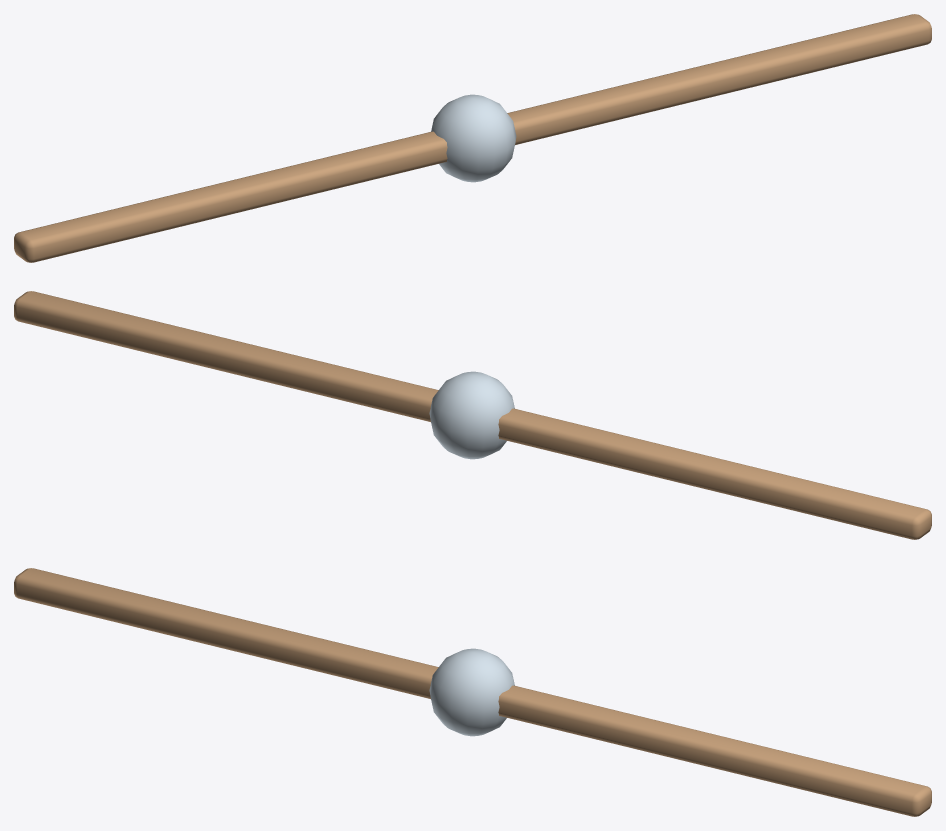
File: scale_beam.glb
3 renders of one model, top to bottom at view 1: azimuth 30°, elevation 25°; view 2: azimuth 150°, elevation 25°; view 3: azimuth 330°, elevation 25°, orthographic.
Parts seen in each view (by area): view 1: Beam_Arm, Beam_Hub; view 2: Beam_Arm, Beam_Hub; view 3: Beam_Arm, Beam_Hub.
Boxes of the visible parts, x1,y1,x2,y2 form: Beam_Arm: [14, 14, 931, 262]; Beam_Hub: [431, 94, 516, 182]; Beam_Arm: [14, 291, 931, 539]; Beam_Hub: [429, 371, 514, 459]; Beam_Arm: [14, 568, 931, 816]; Beam_Hub: [429, 648, 514, 736].
Size of the model in its own units: 3.1 by 0.26 by 0.26.
